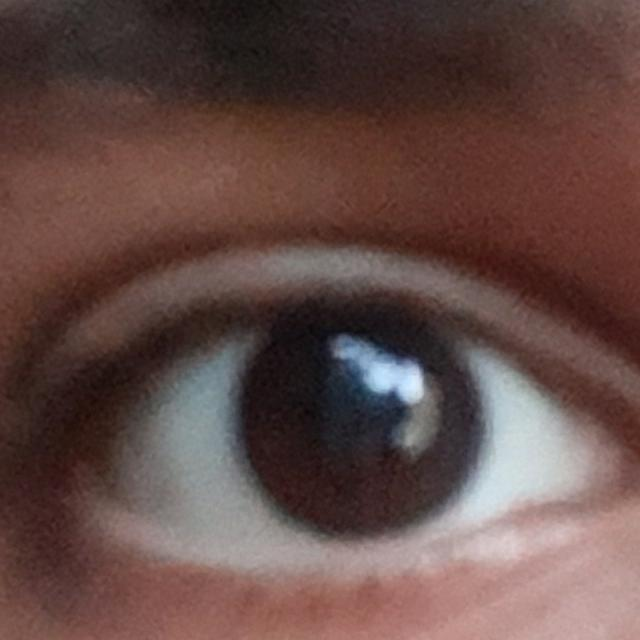eye: (75, 304, 610, 573)
iris: (238, 319, 482, 537)
